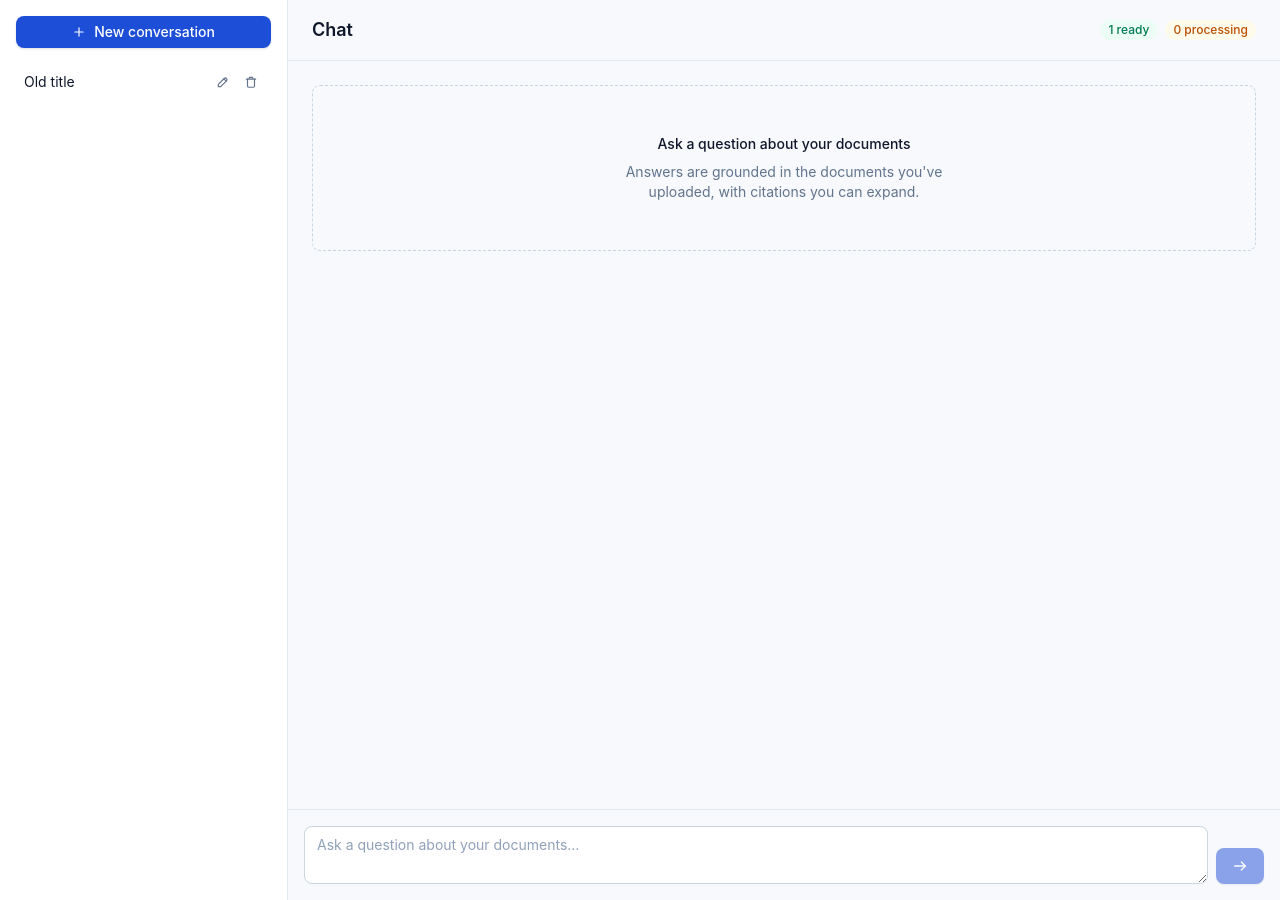
Test case: Chat screen › AC-051: a rename refused by the API surfaces an error and the title stays the stored one
Expected: the button "Old title" is shown, [24,72,207,92]
Click the button named "rename old title". click: click(223, 82)
box: [211,70,235,94]
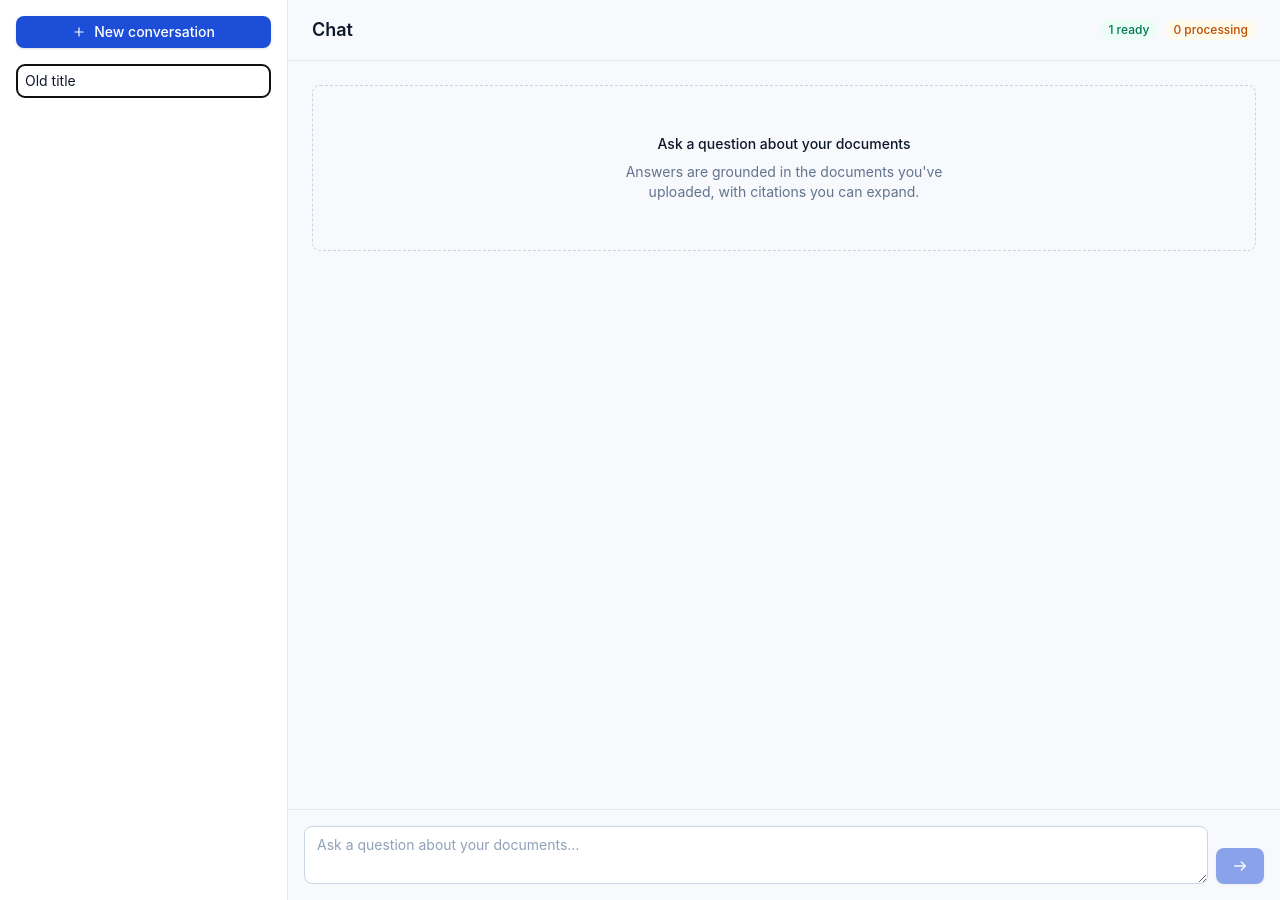
Replace the text in the field named "rename conversation" with "A new attempted title". click: (144, 81)
box: [16,64,271,98]
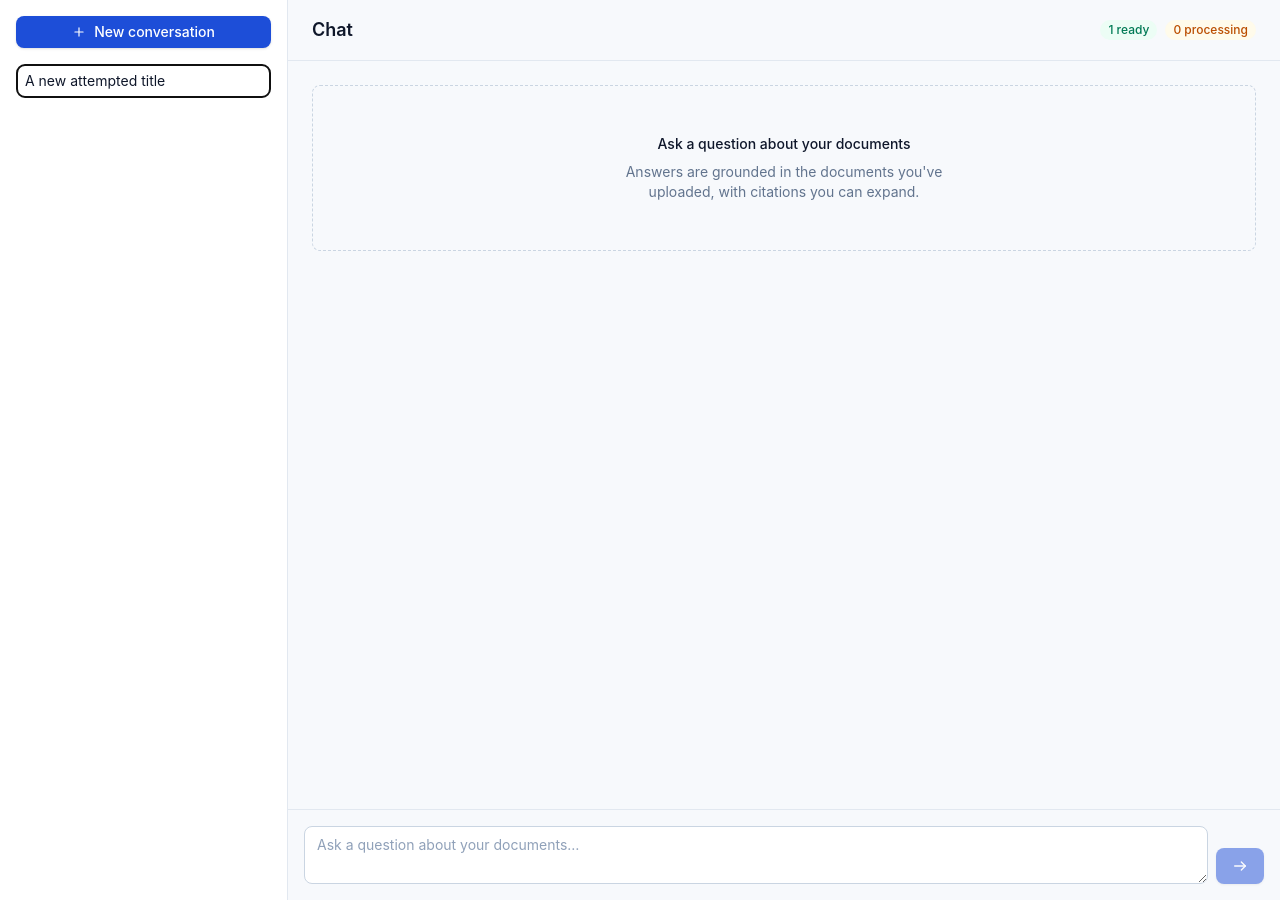
Press Enter in the field named "rename conversation", box [16,64,271,98]
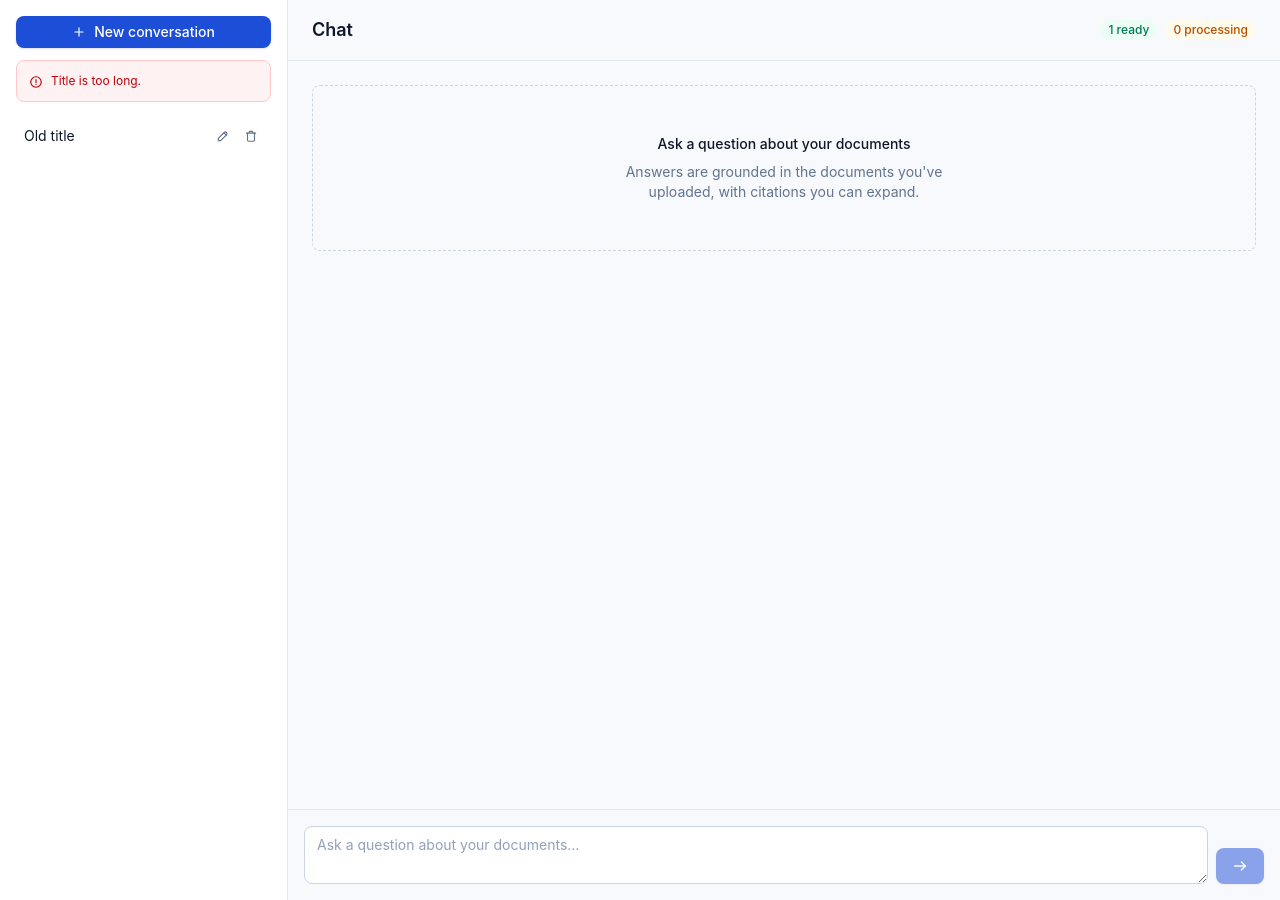
Expected: the text "A new attempted title" is not shown
Expected: the text "Title is too long." is shown, [51,73,141,88]
Expected: the button "Old title" is shown, [24,126,207,146]
